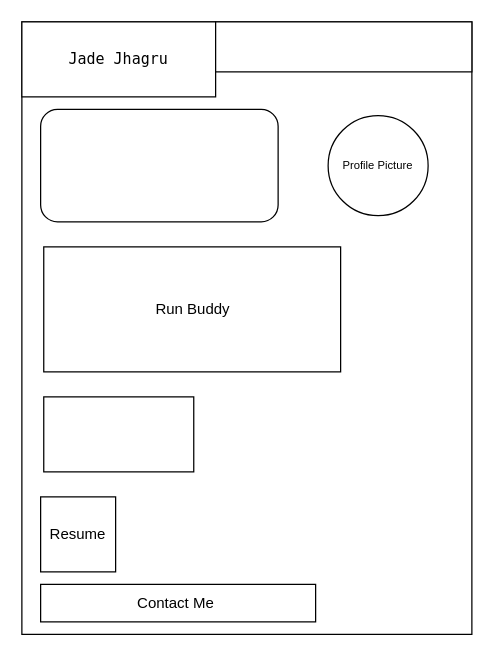
Image size: 494x656. Some labels were removed from this diagram. The shapes that lost their labels are listed below. From the top down, each one's centre as x and y in pixels, then its label:
the point at 343,46: About Me Work Resume Contact Me
the point at 158,165: About Me
the point at 118,434: Horiseon Challange
